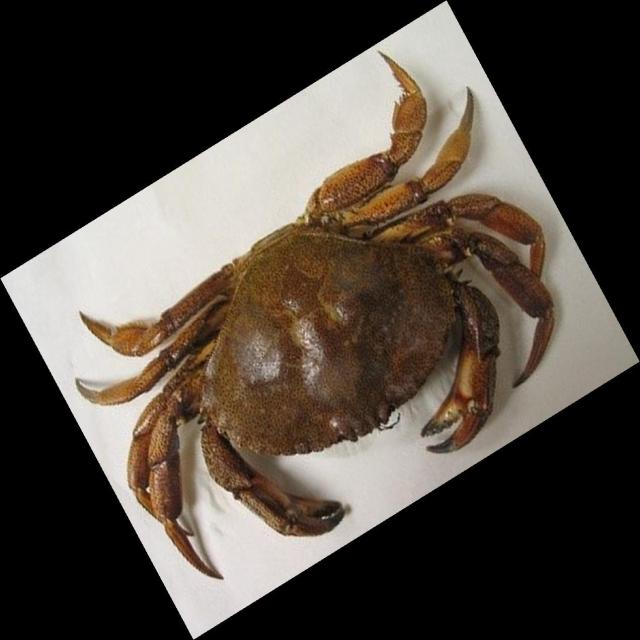Native Rock crab: (76, 52, 553, 579)
